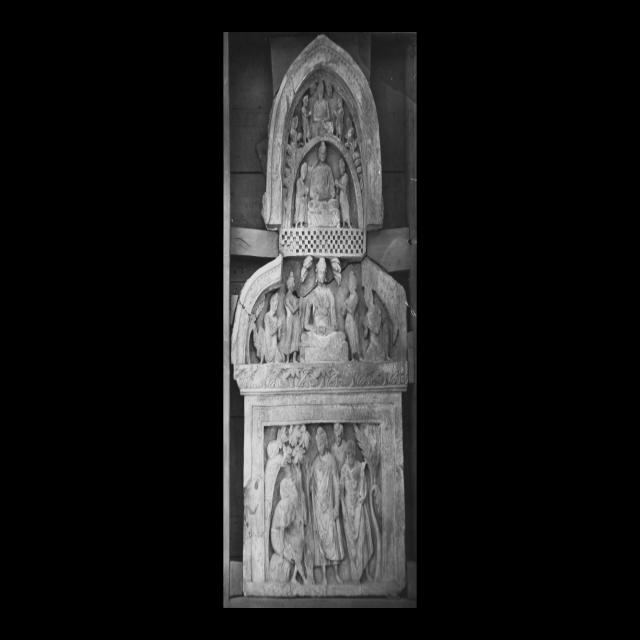buddha-sitting: (300, 258, 349, 361), (308, 142, 340, 226), (312, 80, 334, 134)
buddha-standing: (311, 427, 344, 583)
